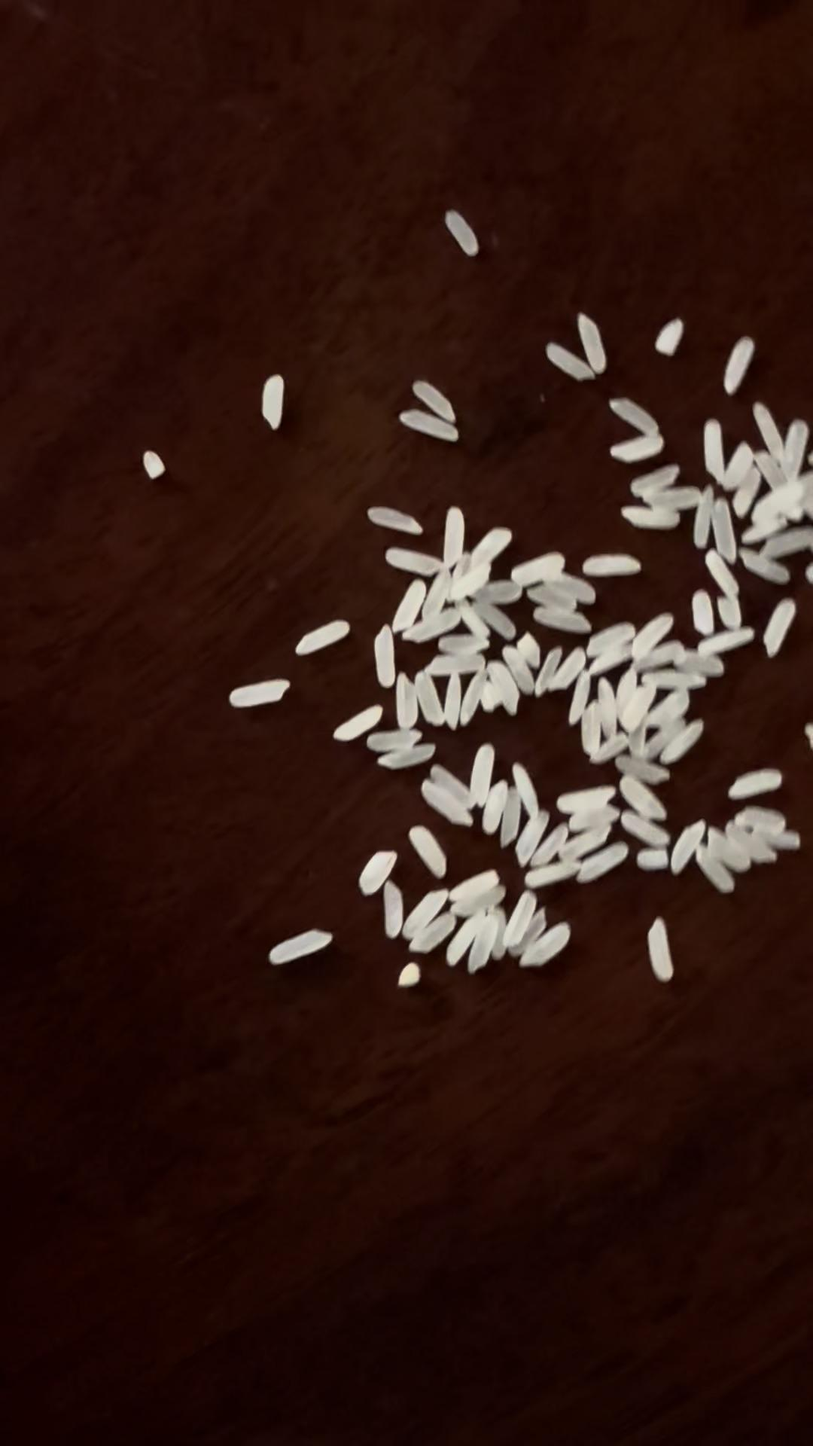Rice-th-y-nh: (401, 888, 448, 941), (463, 912, 502, 973), (519, 923, 571, 968), (421, 781, 473, 826), (463, 743, 499, 808), (445, 912, 487, 967), (618, 776, 668, 822), (429, 764, 474, 814), (269, 929, 333, 964), (576, 841, 629, 883), (707, 499, 741, 563), (694, 843, 736, 894), (408, 825, 448, 878), (404, 607, 461, 644), (514, 809, 551, 866), (557, 825, 612, 863), (609, 398, 661, 438), (778, 420, 812, 481), (668, 819, 705, 875), (629, 614, 673, 661), (502, 890, 537, 949), (408, 912, 457, 954), (388, 672, 423, 729), (687, 486, 718, 550), (468, 528, 512, 573), (752, 402, 786, 460), (761, 599, 796, 655), (368, 625, 400, 686), (400, 409, 459, 442), (660, 720, 704, 764), (470, 600, 517, 641), (391, 579, 426, 634), (704, 550, 741, 602), (738, 548, 790, 585), (545, 343, 595, 381), (641, 718, 685, 761), (496, 787, 527, 848), (487, 662, 522, 716), (333, 705, 384, 742), (620, 811, 669, 849), (696, 626, 754, 658), (760, 525, 813, 560), (294, 621, 350, 654), (412, 670, 445, 726), (478, 781, 512, 835), (384, 546, 443, 577), (592, 678, 623, 737), (533, 605, 592, 636), (557, 784, 616, 815), (448, 869, 500, 904), (356, 852, 398, 895), (647, 688, 691, 729), (585, 622, 635, 658), (576, 314, 607, 372), (646, 919, 675, 981), (729, 465, 763, 517), (438, 671, 469, 728), (413, 382, 456, 423), (510, 554, 565, 586), (723, 339, 755, 394), (530, 824, 569, 869), (547, 647, 586, 692), (502, 645, 536, 696), (512, 909, 548, 957), (618, 754, 670, 787), (643, 484, 702, 513), (379, 742, 436, 772), (728, 769, 783, 800), (620, 685, 656, 732), (455, 884, 506, 917), (642, 665, 700, 694), (565, 669, 595, 725), (229, 680, 289, 708), (457, 673, 488, 727), (613, 664, 640, 726), (548, 571, 597, 605), (588, 640, 633, 677), (629, 464, 681, 496), (633, 640, 685, 672), (569, 802, 621, 834), (420, 571, 452, 623), (525, 859, 580, 889), (722, 441, 755, 491), (367, 506, 423, 535), (444, 210, 480, 255), (532, 646, 563, 698), (511, 763, 540, 818), (427, 651, 483, 678), (736, 805, 786, 835), (451, 563, 492, 599), (441, 508, 466, 567), (741, 514, 788, 545), (589, 731, 629, 767), (611, 435, 663, 462), (487, 907, 514, 959), (364, 729, 420, 753), (679, 650, 725, 679), (580, 703, 604, 757), (755, 453, 789, 491), (383, 882, 405, 937), (458, 604, 490, 640), (691, 591, 716, 636), (716, 594, 745, 632), (437, 633, 486, 655), (793, 468, 813, 519), (516, 632, 543, 669), (480, 681, 502, 712), (451, 552, 473, 581)
